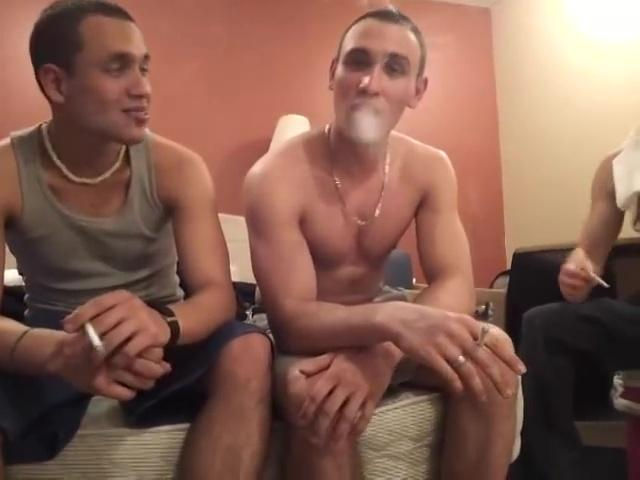cigarette: (82, 318, 105, 354), (584, 272, 614, 288), (477, 323, 491, 349)
